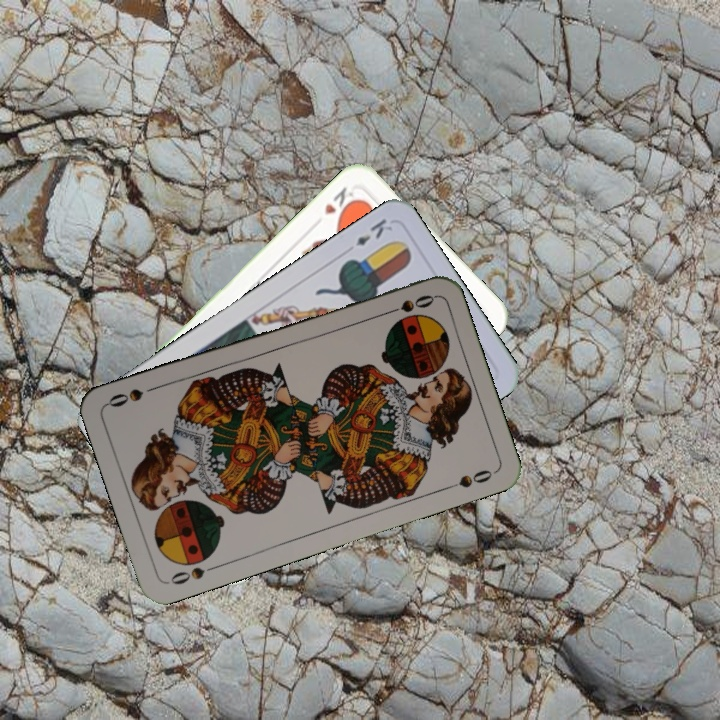EK: (351, 214, 395, 249)
HK: (320, 182, 360, 221)
SO: (164, 560, 222, 588), (379, 291, 437, 318)
